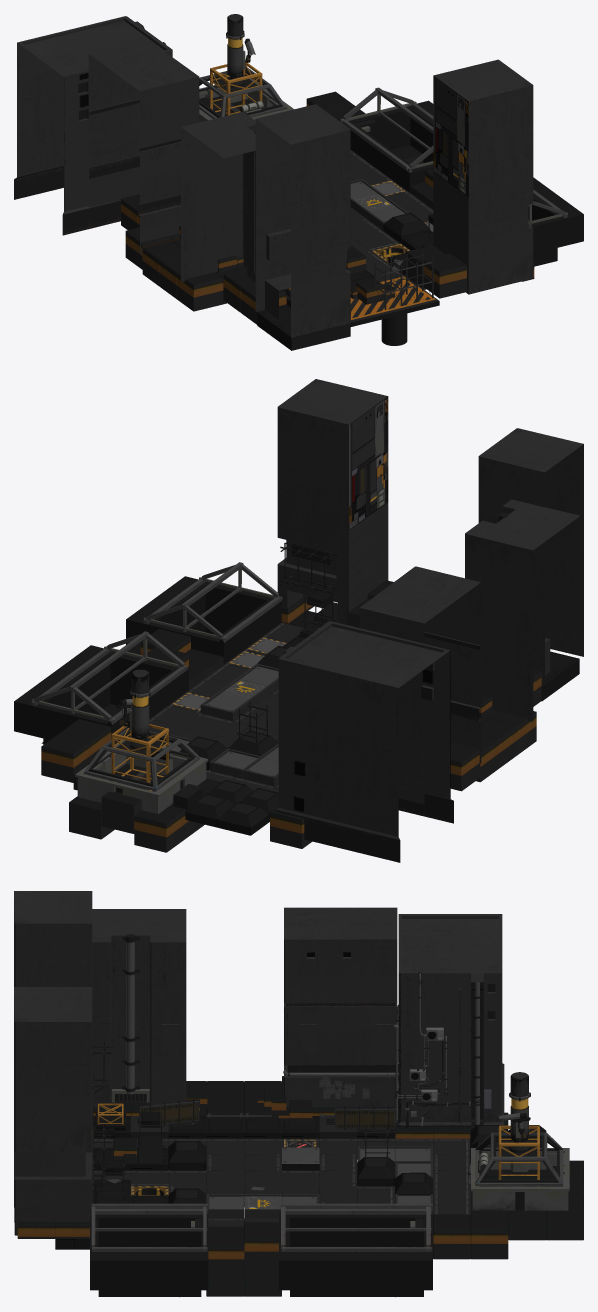
File: level_rune_01-03.fbx
3 views of the same model, one above another, from view 1: azimuth 30°, elevation 25°; view 2: azimuth 150°, elevation 25°; view 3: azimuth 270°, elevation 25° (orthographic). The views are drawn at different scales.
Parts seen in each view (by area): view 1: S_Outworld_prop_0374, S_Outworld_prop_0109, S_Outworld_prop_0638, S_Outworld_prop_015, S_Outworld_prop_00, S_Outworld_prop_01, S_Outworld_prop_0639, OP_146, S_Outworld_prop_0243, OP_18, OP_149, S_Outworld_prop_0644 (+24 smaller); view 2: S_Outworld_prop_0109, S_Outworld_prop_0638, S_Outworld_prop_015, S_Outworld_prop_0374, S_Outworld_prop_00, S_Outworld_prop_0639, OP_146, S_Outworld_prop_0243, OP_18, S_Outworld_prop_01, OP_149, OP_148 (+28 smaller); view 3: S_Outworld_prop_0374, S_Outworld_prop_0109, S_Outworld_prop_015, OP_146, S_Outworld_prop_0638, OP_18, S_Outworld_prop_00, S_Outworld_prop_0639, S_Outworld_prop_0243, OP_149, OP_123, OP_148 (+56 smaller).
Part boxes in pixels (box(x1,y1,x2,y2)): S_Outworld_prop_0374: box(88, 39, 199, 255); S_Outworld_prop_0109: box(14, 16, 172, 235); S_Outworld_prop_0638: box(433, 59, 533, 197); S_Outworld_prop_015: box(181, 112, 285, 297); S_Outworld_prop_00: box(255, 104, 350, 240); S_Outworld_prop_01: box(255, 206, 350, 337); S_Outworld_prop_0639: box(433, 171, 533, 294); OP_146: box(348, 100, 433, 192); S_Outworld_prop_0243: box(199, 14, 293, 122); OP_18: box(528, 177, 583, 266); OP_149: box(340, 87, 433, 172); S_Outworld_prop_0644: box(423, 253, 466, 298); S_Outworld_prop_0109: box(275, 621, 453, 862); S_Outworld_prop_0638: box(277, 379, 388, 530); S_Outworld_prop_015: box(465, 499, 579, 721); S_Outworld_prop_0374: box(359, 566, 481, 804); S_Outworld_prop_00: box(478, 428, 583, 578); S_Outworld_prop_0639: box(277, 502, 388, 623); OP_146: box(14, 645, 188, 744); S_Outworld_prop_0243: box(75, 669, 207, 813); OP_18: box(126, 576, 281, 664); S_Outworld_prop_01: box(533, 541, 583, 685); OP_149: box(31, 631, 187, 724); OP_148: box(143, 562, 282, 642); S_Outworld_prop_0374: box(284, 907, 397, 1108); S_Outworld_prop_0109: box(397, 914, 504, 1126); S_Outworld_prop_015: box(92, 909, 186, 1113); OP_146: box(279, 1212, 432, 1297); S_Outworld_prop_0638: box(14, 987, 92, 1127); OP_18: box(90, 1213, 208, 1297); S_Outworld_prop_00: box(14, 891, 92, 986); S_Outworld_prop_0639: box(14, 1100, 92, 1235); S_Outworld_prop_0243: box(468, 1072, 569, 1210); OP_149: box(280, 1203, 432, 1251); OP_123: box(394, 972, 491, 1127); OP_148: box(91, 1203, 208, 1251).
Size of the model in its own units: 12.92 by 9.08 by 15.1.
Materials: 2 (2 with a texture image).
